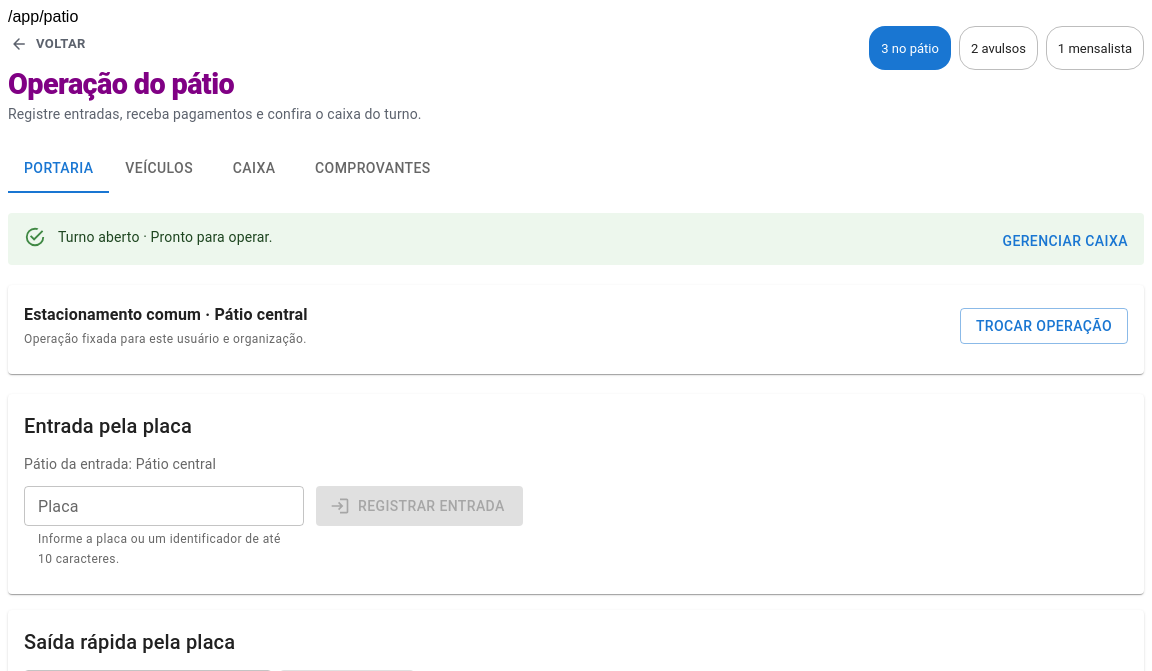
it: Operação do pátio › filtra avulsos e mensalistas junto da placa, nos cartões e na listagem
Expected: the text "1 mensalista" is shown, [1058,40,1132,56]
Click the button with aria-label "Mostrar mensalistas: 1" at (1095, 48), box [1046,26,1144,70]
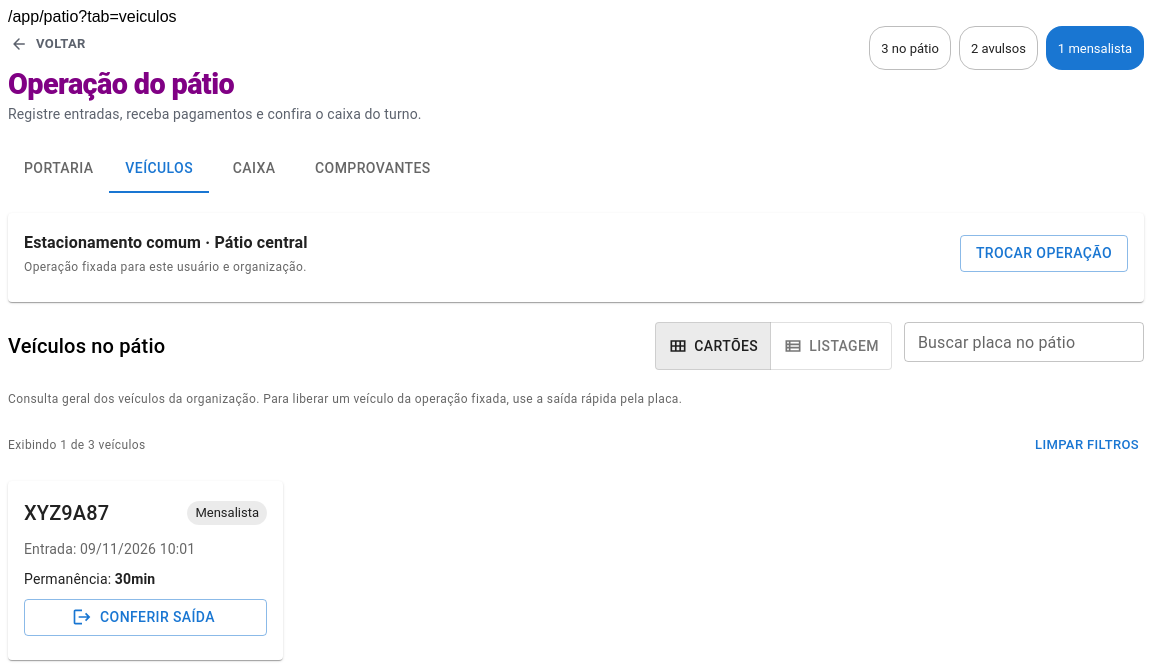
Expected: the number of list items is 1, [8,481,283,660]
Expected: the heading "XYZ9A87" is shown, [24,497,109,529]
Expected: the text "Mensalista" is shown, [195,506,259,520]
Click the button "Listagem" at (831, 346), box [770,322,892,370]
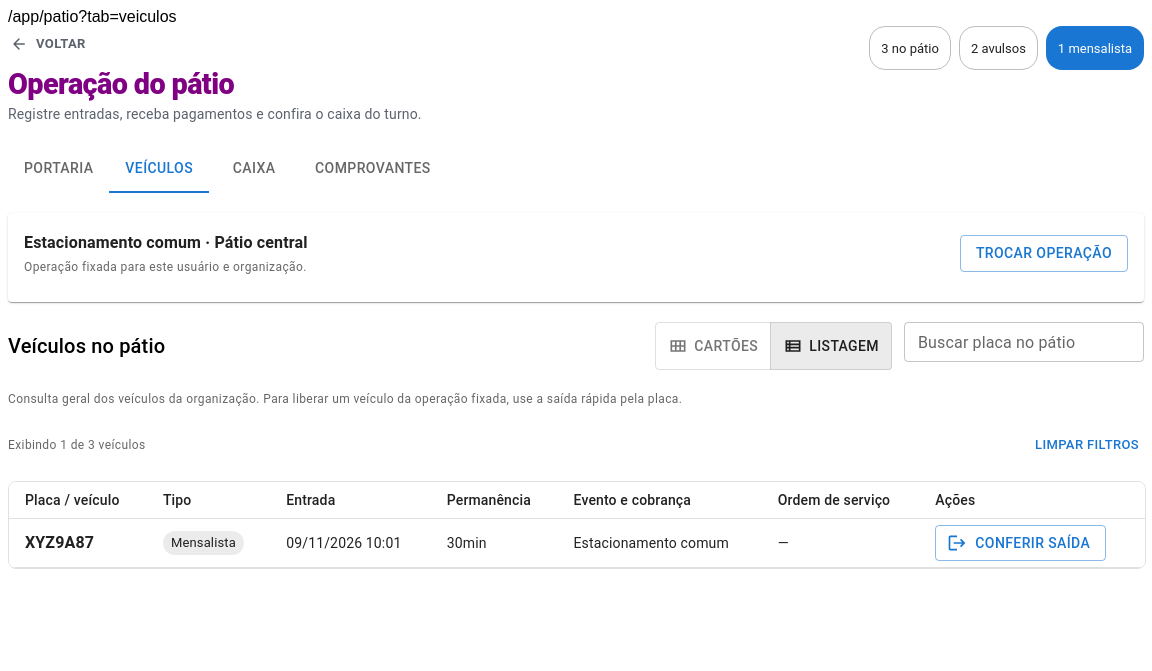
Expected: the number of rows is 2, [9,482,1145,518]; [9,518,1145,568]
Click the button with aria-label "Mostrar avulsos: 2" at (998, 48), box [959,26,1038,70]
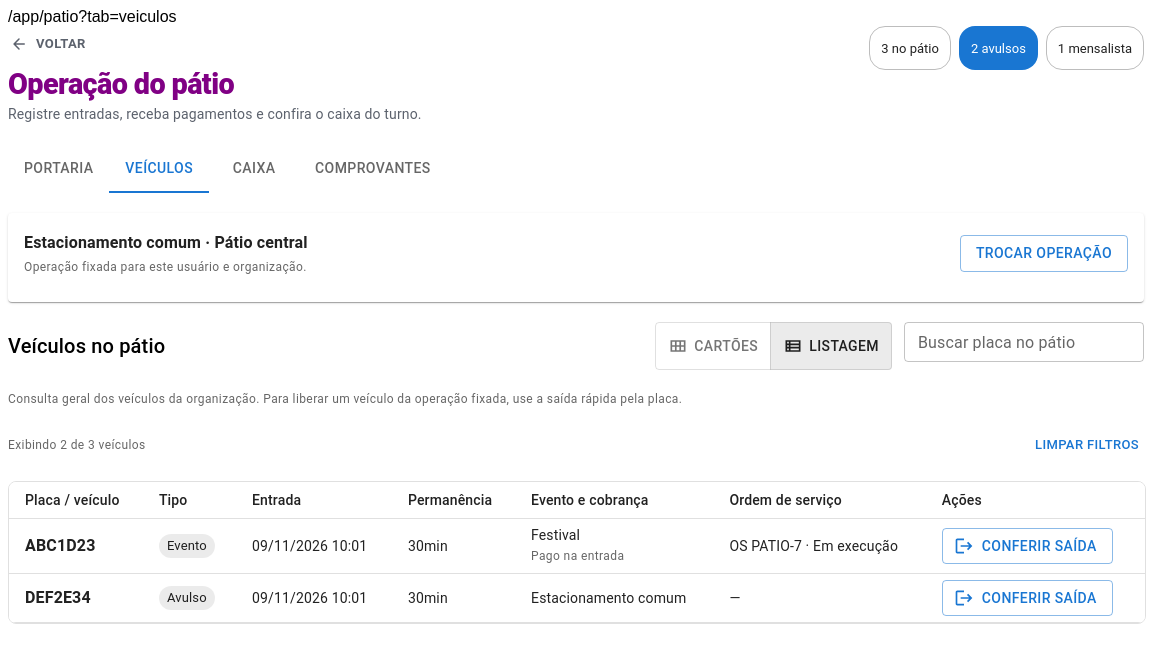
Expected: the number of rows is 3, [9,482,1145,518]; [9,518,1145,573]; [9,573,1145,623]
Expected: the text "ABC1D23" is shown, [25,536,96,555]
Expected: the text "Avulso" is shown, [167,590,207,605]
Type "ABC1D23" into the field labelled "Buscar placa no pátio" at (1024, 342), box [904,322,1144,362]
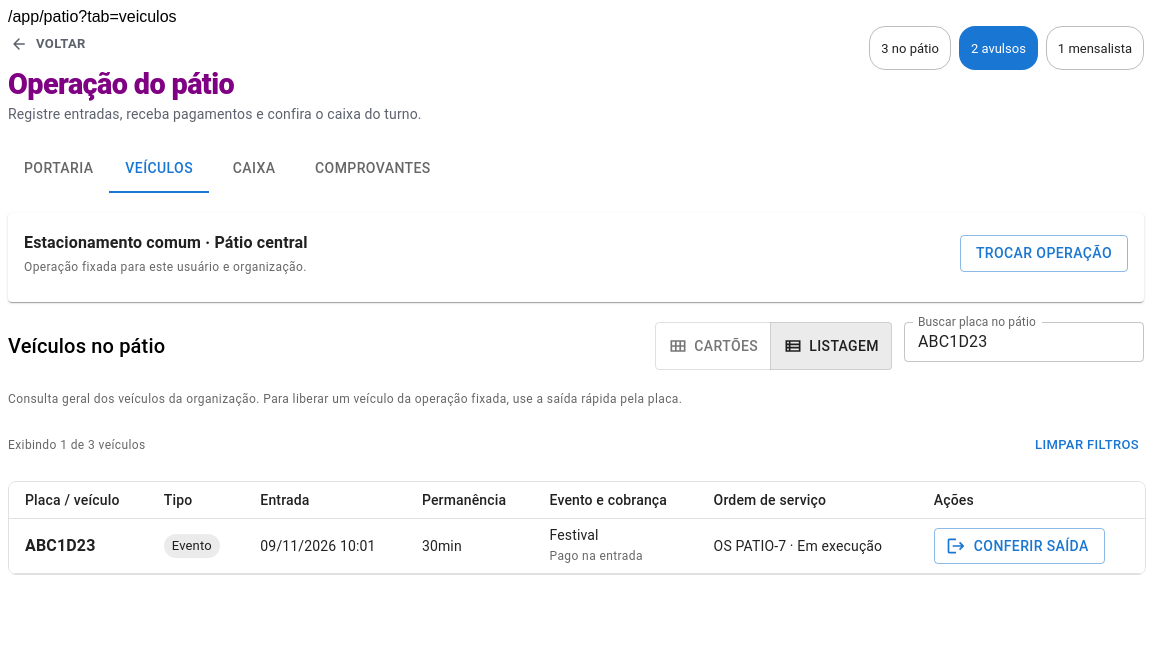
Expected: the number of rows is 2, [9,482,1145,518]; [9,518,1145,573]
Click the button with aria-label "Mostrar todos os veículos: 3" at (910, 48), box [869,26,951,70]
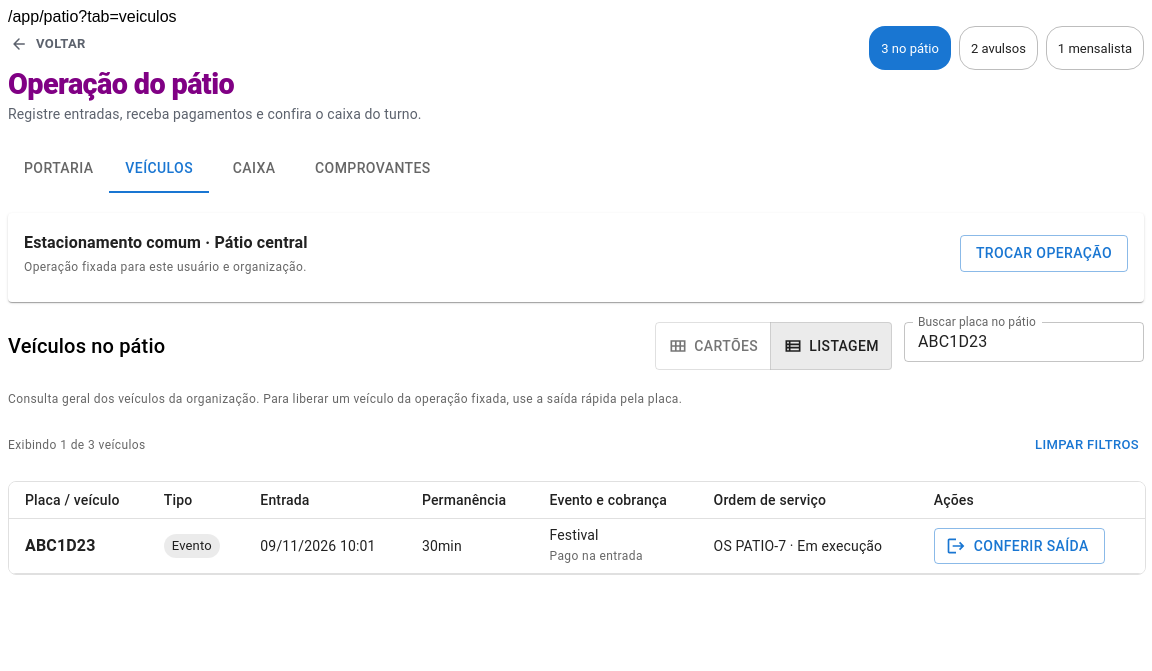
Expected: the number of rows is 2, [9,482,1145,518]; [9,518,1145,573]
Click the button "Limpar filtros" at (1087, 446), box [1030,430,1144,461]
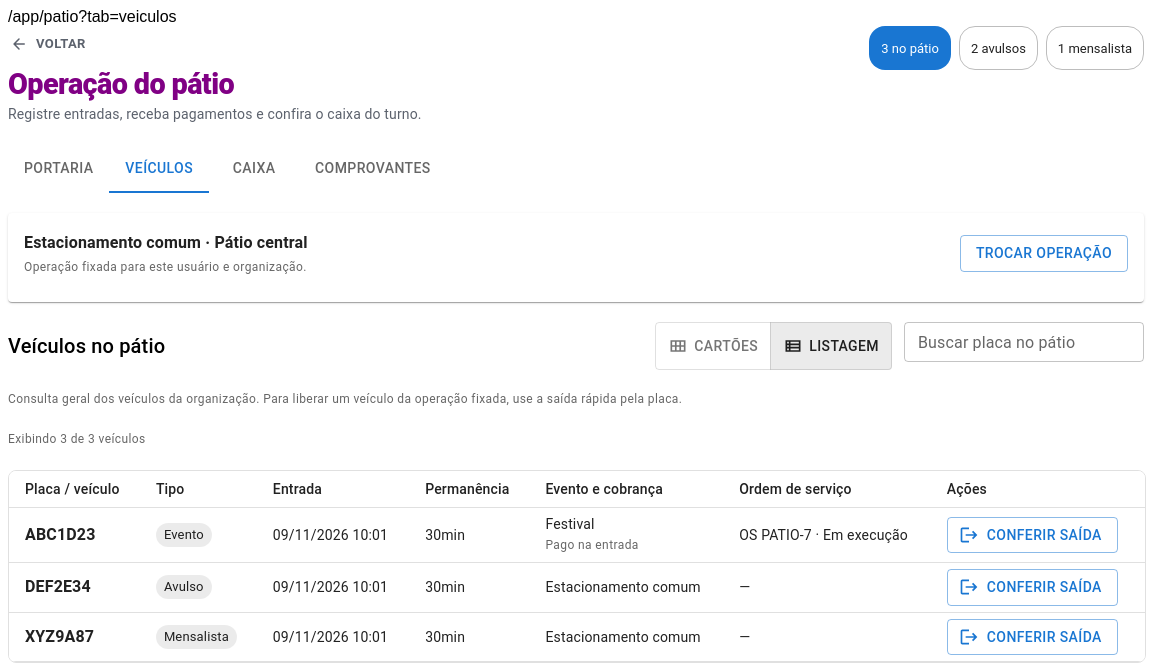
Expected: the number of rows is 4, [9,471,1145,508]; [9,508,1145,562]; [9,562,1145,612]; [9,612,1145,662]
Expected: the field labelled "Buscar placa no pátio" is empty, [904,322,1144,362]
